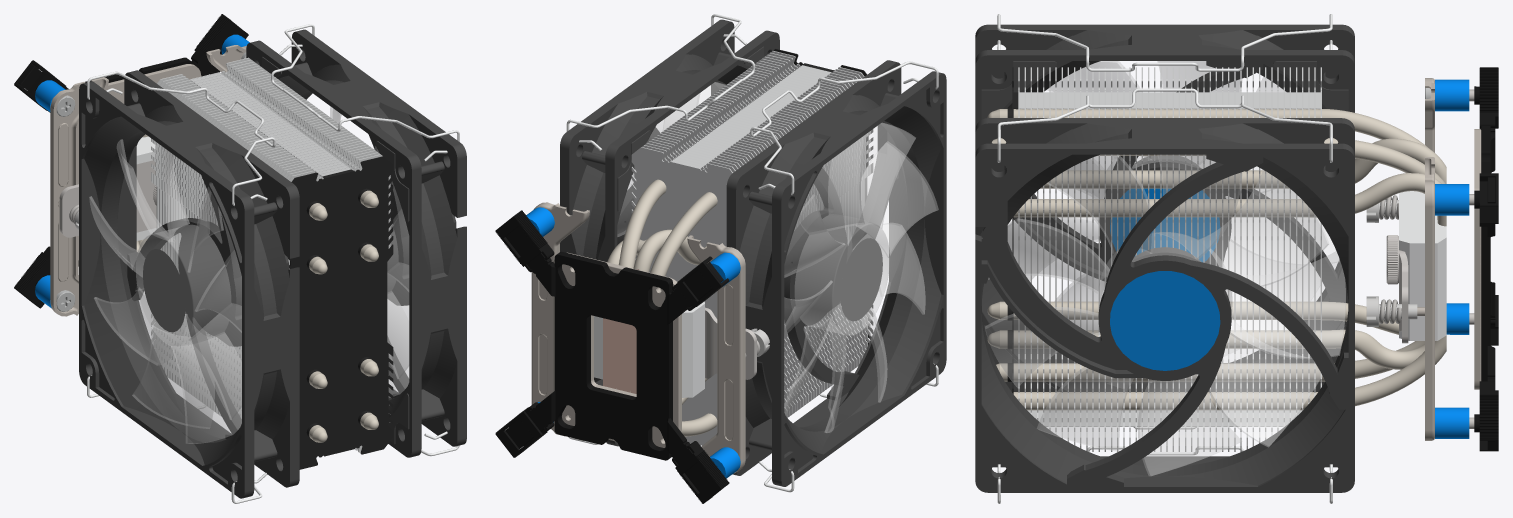
Rendered from cooler.glb.
3 views of the same model, side by side, from view 1: azimuth 30°, elevation 25°; view 2: azimuth 150°, elevation 25°; view 3: azimuth 270°, elevation 25° (orthographic). The views are drawn at different scales.
Parts seen in each view (by area): view 1: cpu_fan_frame1, radiator_main, cpu_fan_frame2, cpu_fan, motherboard_anchor, cpu_fan.001, cpu_fan_rubber.001, cpu_fan_clip1, cpu_fan_clip1.001; view 2: cpu_fan_frame1, radiator_main, motherboard_anchor, cpu_fan, cpu_fan_frame2, cpu_fan_clip1, cpu_fan.001, cpu_fan_clip1.001, cpu_fan_rubber.001; view 3: cpu_fan_frame2, radiator_main, cpu_fan.001, cpu_fan_frame1, cpu_fan, motherboard_anchor, cpu_fan_rubber, cpu_fan_clip1.001, cpu_fan_clip1, cpu_fan_clip2.001.
Boxes of the visible parts, box(x1,y1,x2,y2) form: cpu_fan_frame1: box(79, 70, 299, 498); radiator_main: box(35, 34, 393, 469); cpu_fan_frame2: box(246, 29, 466, 457); cpu_fan: box(89, 139, 241, 443); motherboard_anchor: box(14, 14, 248, 308); cpu_fan.001: box(330, 107, 409, 397); cpu_fan_rubber.001: box(262, 57, 409, 443); cpu_fan_clip1: box(87, 71, 275, 205); cpu_fan_clip1.001: box(271, 24, 459, 161); cpu_fan_frame1: box(726, 60, 946, 486); radiator_main: box(526, 49, 873, 478); motherboard_anchor: box(495, 210, 729, 503); cpu_fan: box(784, 123, 938, 432); cpu_fan_frame2: box(560, 19, 779, 446); cpu_fan_clip1: box(750, 61, 938, 195); cpu_fan.001: box(617, 82, 725, 261); cpu_fan_clip1.001: box(566, 14, 755, 150); cpu_fan_rubber.001: box(617, 46, 763, 211); cpu_fan_frame2: box(975, 118, 1354, 492); radiator_main: box(987, 67, 1469, 451); cpu_fan.001: box(985, 155, 1345, 475); cpu_fan_frame1: box(975, 24, 1354, 391); cpu_fan: box(1008, 61, 1339, 382); motherboard_anchor: box(1469, 67, 1498, 451); cpu_fan_rubber: box(981, 61, 1348, 391); cpu_fan_clip1.001: box(997, 88, 1332, 162); cpu_fan_clip1: box(997, 14, 1332, 71); cpu_fan_clip2.001: box(997, 446, 1332, 503).
Bounding box in the file's own units: 0.0953 × 0.128 × 0.1655.
19 materials, 1 textured.
